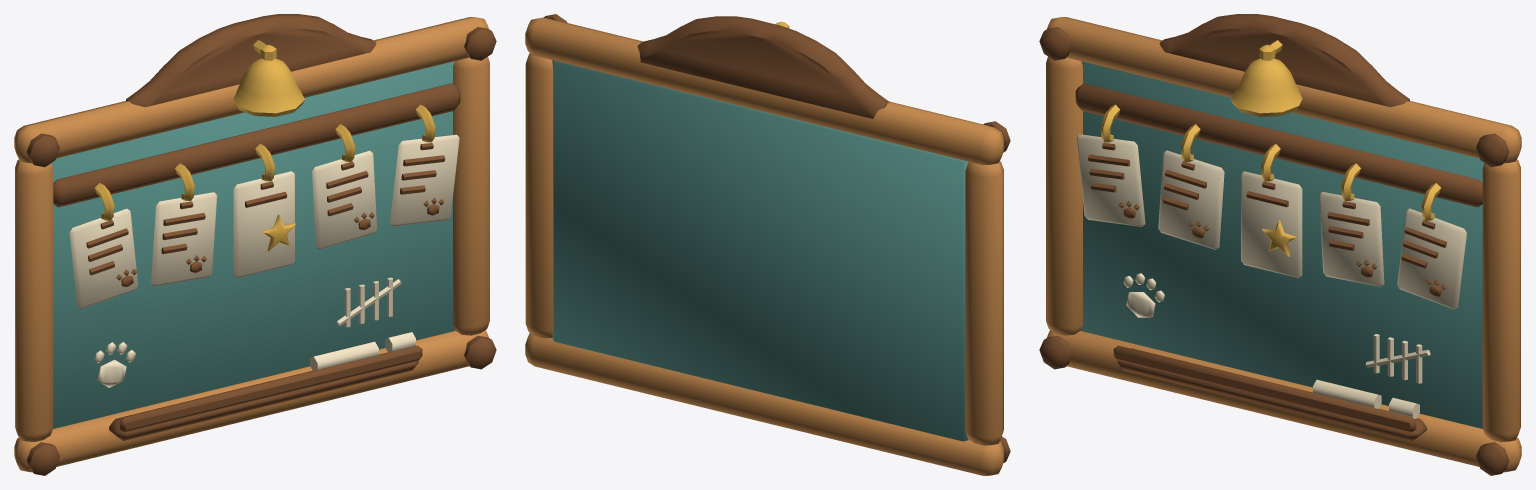
Rendered from ShopOrderBoard.fbx.
The picture shows the model from 3 angles, left to right: view 1: azimuth 30°, elevation 25°; view 2: azimuth 150°, elevation 25°; view 3: azimuth 330°, elevation 25°; orthographic projection.
Parts seen in each view (by area): view 1: ShopOrderBoard; view 2: ShopOrderBoard; view 3: ShopOrderBoard.
Part boxes in pixels (left/top/right/bottom): ShopOrderBoard: left=14, top=14, right=496, bottom=475; ShopOrderBoard: left=525, top=14, right=1010, bottom=475; ShopOrderBoard: left=1039, top=14, right=1521, bottom=475.
Bounding box in the file's own units: 1 × 0.8002 × 0.1539.
